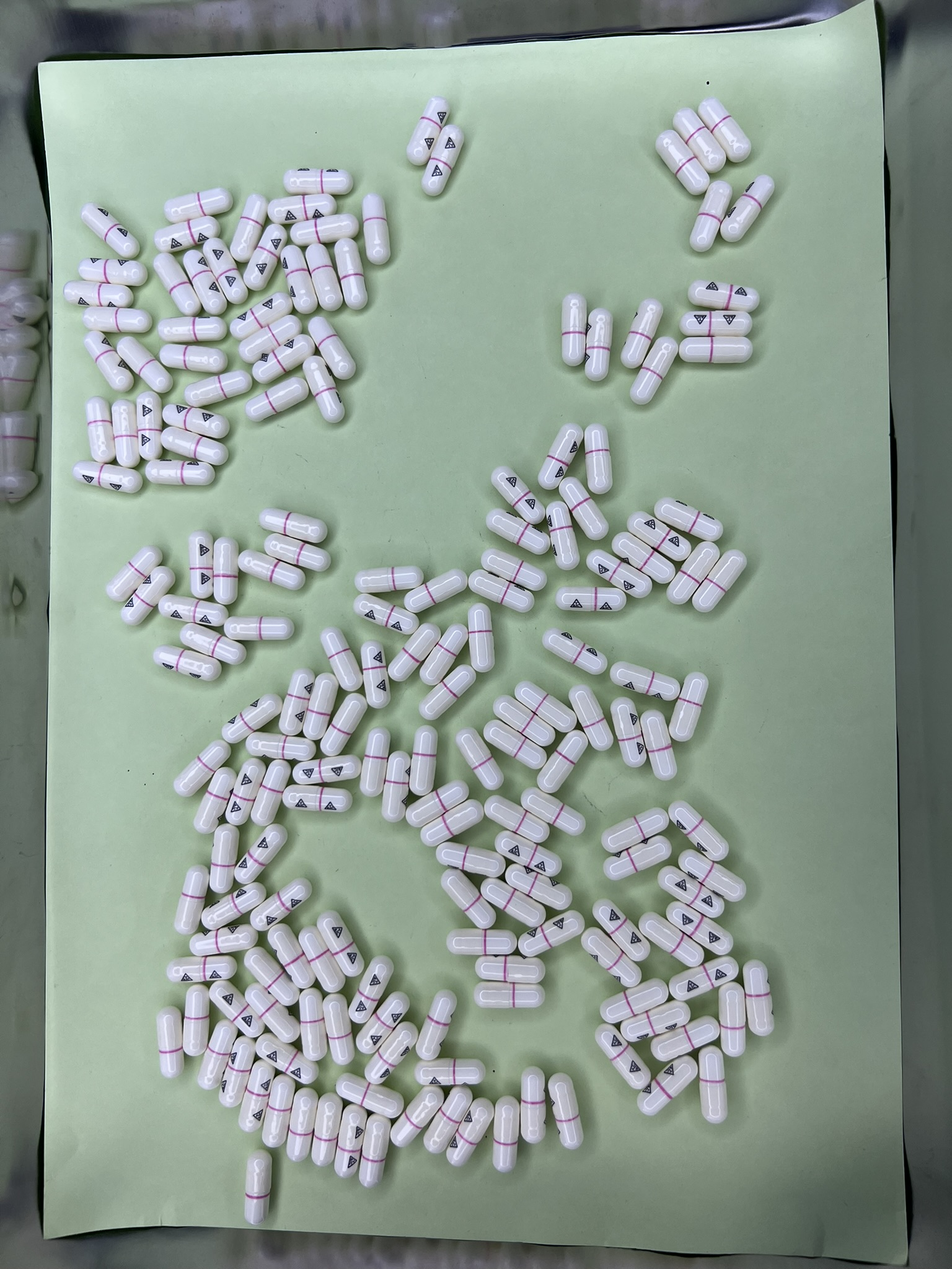Capsule: (634, 1051, 699, 1118), (663, 905, 735, 961), (667, 799, 732, 861), (593, 896, 651, 963), (654, 128, 712, 195), (639, 911, 705, 969), (581, 926, 643, 987), (721, 174, 775, 244), (679, 852, 747, 907), (657, 865, 726, 919), (230, 823, 290, 885), (699, 95, 752, 165), (422, 1084, 474, 1155), (671, 106, 723, 176), (491, 693, 556, 749), (595, 1026, 650, 1092), (692, 547, 747, 613), (668, 954, 740, 1004), (481, 878, 550, 930), (355, 992, 411, 1056), (612, 530, 677, 585), (666, 540, 720, 606), (512, 682, 579, 735), (105, 545, 165, 604), (172, 738, 229, 800), (120, 565, 176, 627), (601, 807, 671, 856), (387, 621, 443, 682), (494, 833, 565, 881), (365, 1021, 419, 1084), (559, 475, 609, 543), (252, 331, 316, 384), (482, 794, 551, 843), (420, 123, 465, 198), (318, 692, 369, 758), (80, 203, 140, 259), (244, 982, 299, 1043), (406, 779, 471, 830), (521, 786, 586, 837), (238, 314, 303, 365), (419, 798, 485, 848), (309, 314, 358, 381), (395, 1084, 447, 1147), (451, 1094, 494, 1170), (114, 336, 170, 394), (243, 946, 298, 1005), (490, 466, 545, 525), (336, 1073, 408, 1118), (517, 910, 583, 959), (537, 731, 589, 793), (653, 496, 723, 542), (603, 978, 670, 1026), (420, 622, 470, 686), (651, 1015, 719, 1062), (632, 334, 679, 402), (441, 870, 497, 927), (586, 549, 651, 598), (506, 862, 572, 910), (688, 181, 732, 253), (454, 729, 504, 792), (203, 236, 248, 306), (251, 879, 310, 932), (153, 252, 200, 318), (317, 911, 364, 977), (627, 511, 689, 561), (419, 667, 475, 722), (405, 96, 449, 166), (258, 1031, 316, 1084), (622, 299, 664, 372), (193, 765, 238, 833), (267, 924, 314, 989), (298, 925, 345, 990), (244, 376, 310, 422), (486, 510, 551, 556), (200, 886, 265, 932), (83, 332, 132, 393), (605, 837, 671, 882), (569, 686, 614, 752), (611, 661, 680, 704), (669, 671, 710, 743), (414, 991, 456, 1061), (352, 958, 397, 1023), (244, 225, 287, 293), (181, 249, 225, 314), (479, 548, 545, 591), (484, 722, 543, 770), (403, 570, 467, 614), (230, 193, 270, 263), (230, 293, 292, 338), (208, 981, 259, 1035), (173, 865, 210, 939), (467, 570, 532, 612), (224, 694, 282, 741), (540, 424, 583, 487), (303, 357, 344, 423), (179, 624, 248, 663), (252, 760, 293, 825), (321, 628, 363, 691), (543, 628, 606, 670), (641, 708, 677, 781), (201, 1020, 237, 1093), (305, 242, 343, 311), (549, 1071, 583, 1148), (237, 551, 304, 590), (160, 426, 227, 465), (182, 369, 252, 406), (264, 534, 330, 573), (628, 1002, 689, 1044), (435, 841, 506, 877), (219, 1038, 255, 1109), (259, 508, 328, 545), (359, 1111, 393, 1186), (190, 921, 258, 958), (743, 960, 774, 1041), (354, 597, 418, 636), (155, 646, 224, 682), (240, 1059, 274, 1132), (611, 700, 648, 767), (162, 187, 232, 222), (359, 638, 393, 710), (263, 1076, 296, 1150), (334, 237, 367, 311), (226, 759, 266, 820), (282, 248, 318, 315), (301, 675, 339, 738), (154, 217, 220, 253), (335, 1103, 368, 1175), (359, 728, 391, 802), (287, 1087, 319, 1161), (291, 753, 362, 786), (322, 993, 354, 1066), (279, 669, 317, 730), (546, 500, 580, 568), (208, 826, 240, 898), (290, 213, 359, 246), (73, 463, 142, 496), (158, 594, 226, 627), (689, 280, 759, 312), (492, 1095, 521, 1172), (299, 990, 329, 1064), (718, 980, 747, 1056), (698, 1047, 727, 1123), (311, 1095, 342, 1166), (162, 405, 226, 439), (84, 397, 116, 465), (267, 194, 337, 225), (584, 308, 613, 382), (167, 954, 234, 986), (353, 565, 424, 595), (520, 1068, 548, 1144), (679, 336, 752, 365), (362, 194, 391, 267), (415, 1060, 481, 1092), (446, 929, 516, 959), (244, 1150, 272, 1224), (160, 344, 229, 374), (476, 956, 545, 986), (682, 310, 752, 339), (584, 427, 613, 497), (63, 280, 138, 307), (248, 733, 315, 763), (156, 1005, 183, 1079), (81, 306, 152, 334), (381, 751, 411, 817), (183, 986, 210, 1059), (283, 167, 353, 195), (561, 294, 588, 366), (111, 398, 139, 467), (157, 316, 225, 344), (282, 785, 349, 813), (78, 259, 146, 286), (411, 729, 438, 797), (223, 616, 293, 642), (468, 604, 495, 671), (144, 459, 213, 485), (475, 984, 544, 1010), (136, 395, 163, 460), (556, 587, 620, 614), (188, 532, 214, 598), (213, 538, 239, 604)
